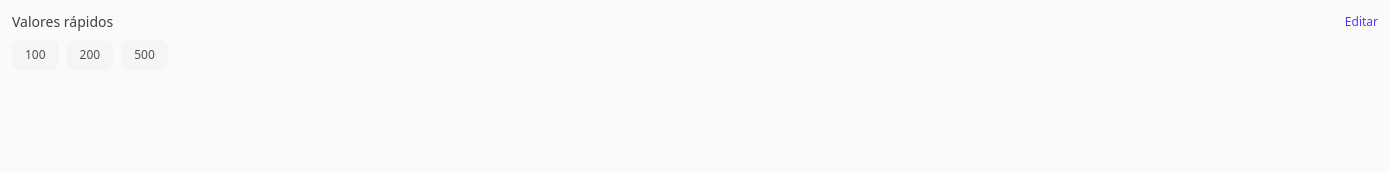
QuickValuesEditor › should toggle label between Editar and Hecho
The width and height of the screenshot is (1390, 172).
Click the button "Editar": (1361, 22) [1345,14,1378,30]
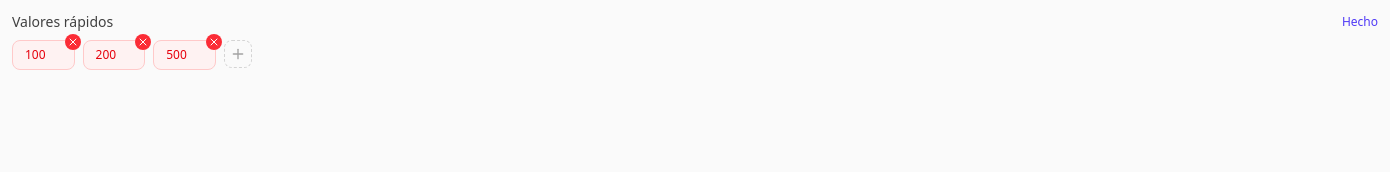
Check: the button "Hecho" is shown
Click the button "Hecho": (1360, 22) [1342,14,1378,30]
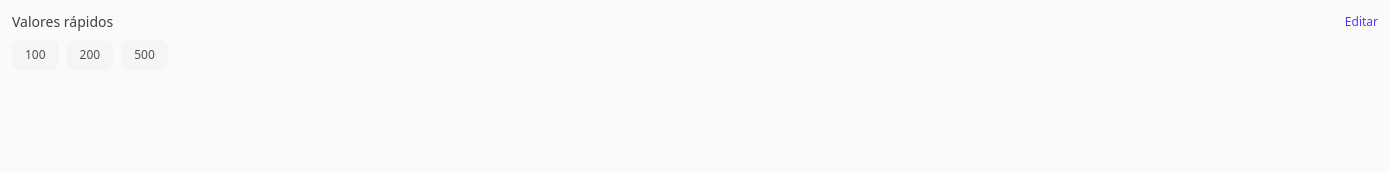
Check: the button "Editar" is shown, box [1345,14,1378,30]
